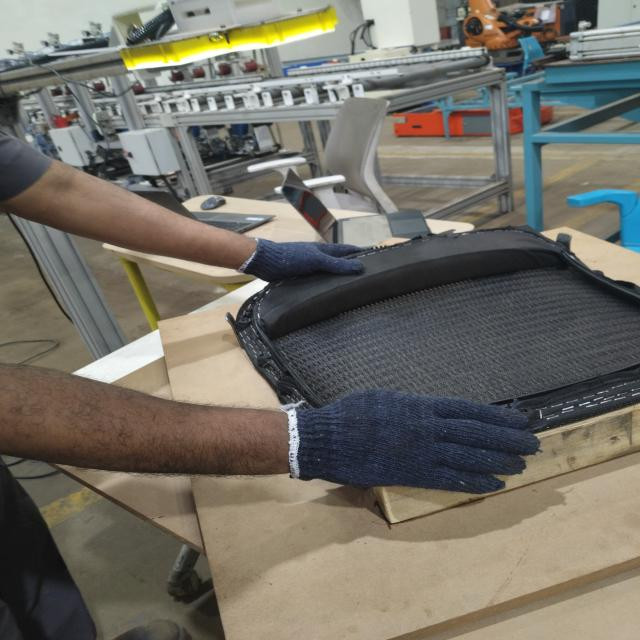Gloves-Detection: (267, 383, 550, 500), (232, 231, 367, 283)
